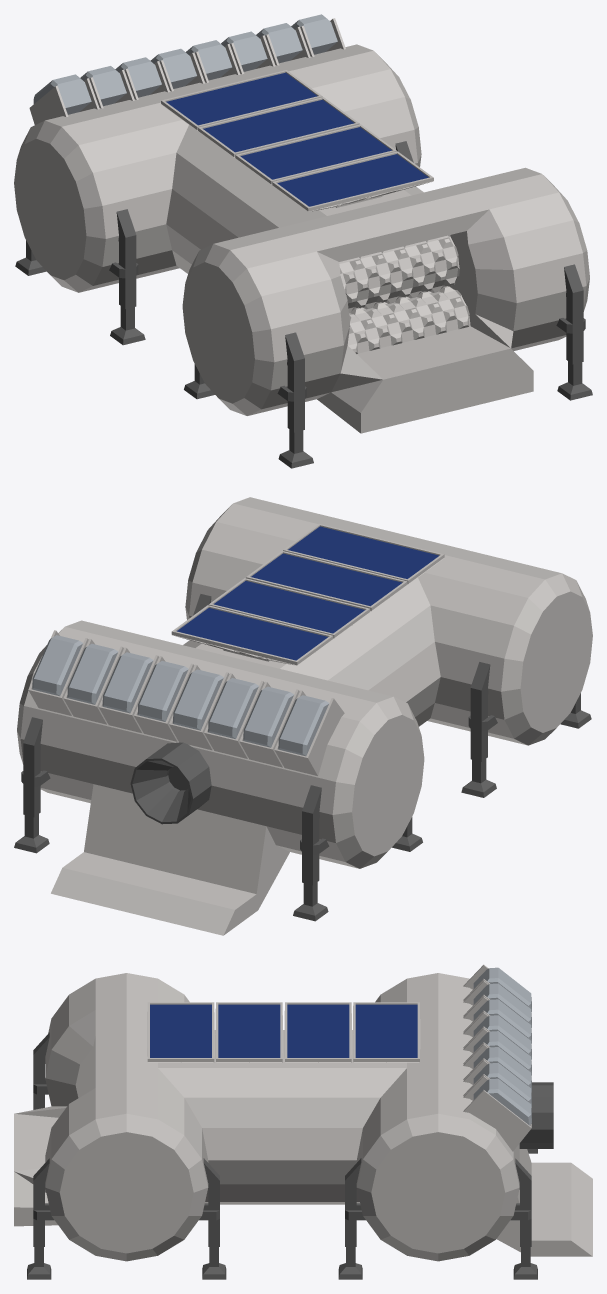
File: RegolitBaseMesh.glb
3 views of the same model, one above another, from view 1: azimuth 30°, elevation 25°; view 2: azimuth 150°, elevation 25°; view 3: azimuth 270°, elevation 25° (orthographic). The views are drawn at different scales.
Visible parts, largest first — view 1: Cylinder.025; view 2: Cylinder.025; view 3: Cylinder.025.
Boxes of the visible parts, <box> form: Cylinder.025: <box>14,14,592,468</box>; Cylinder.025: <box>14,497,592,935</box>; Cylinder.025: <box>14,964,592,1279</box>.
Bounding box in the file's own units: 5.34 × 3.15 × 8.64.
